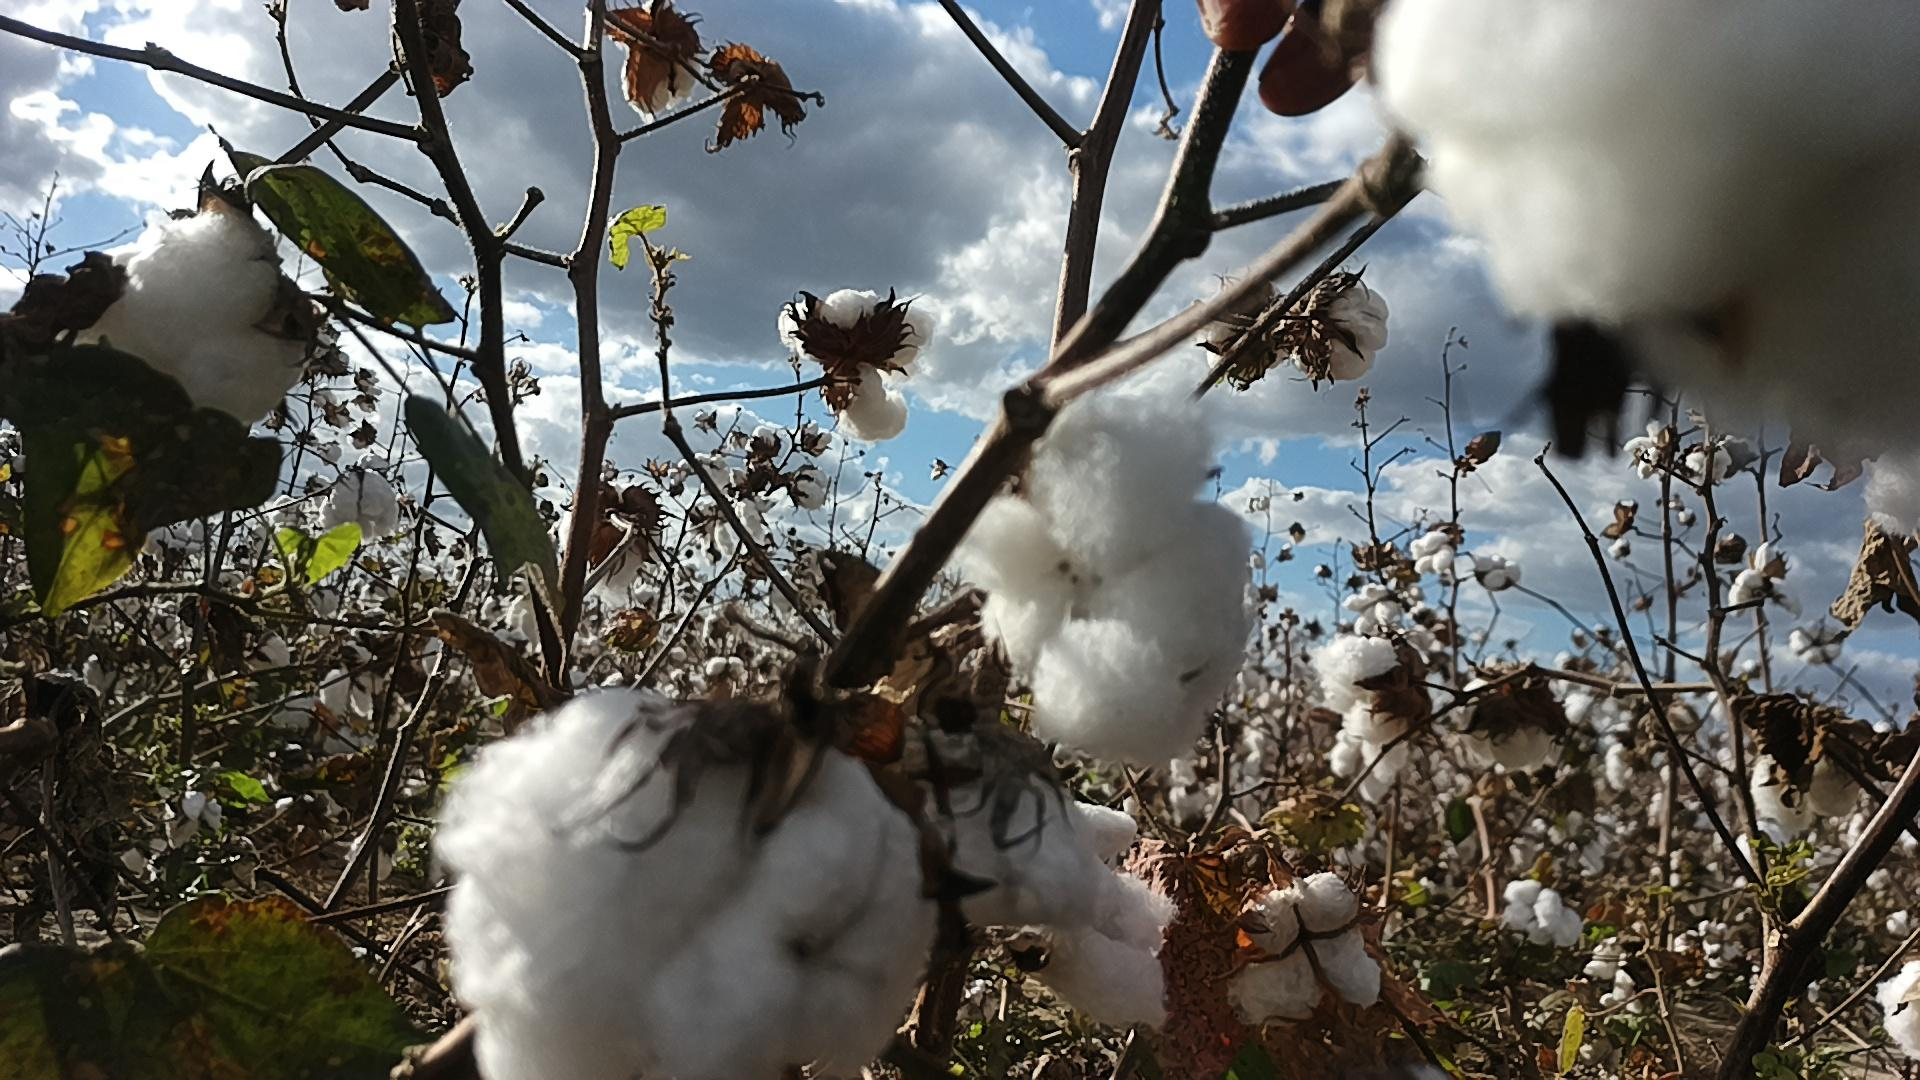cotton_ready: (1375, 0, 1920, 446), (440, 688, 934, 1080), (949, 388, 1253, 766), (73, 211, 298, 415), (1014, 803, 1174, 1036), (932, 766, 1096, 927), (1228, 870, 1389, 1031), (779, 285, 938, 435), (1309, 634, 1418, 795), (1753, 725, 1871, 839), (1456, 679, 1565, 766), (1197, 284, 1278, 396), (1308, 272, 1390, 381), (625, 32, 694, 120), (1866, 435, 1920, 535), (1878, 963, 1920, 1055)
